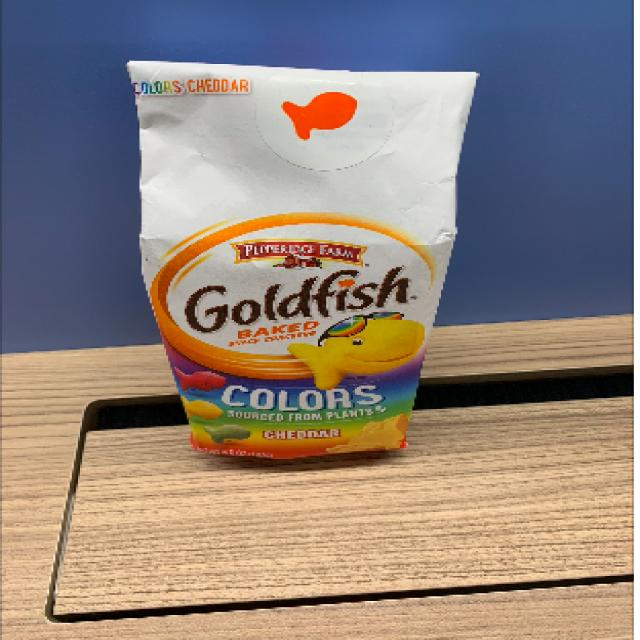object_name: (136, 68, 428, 453)
